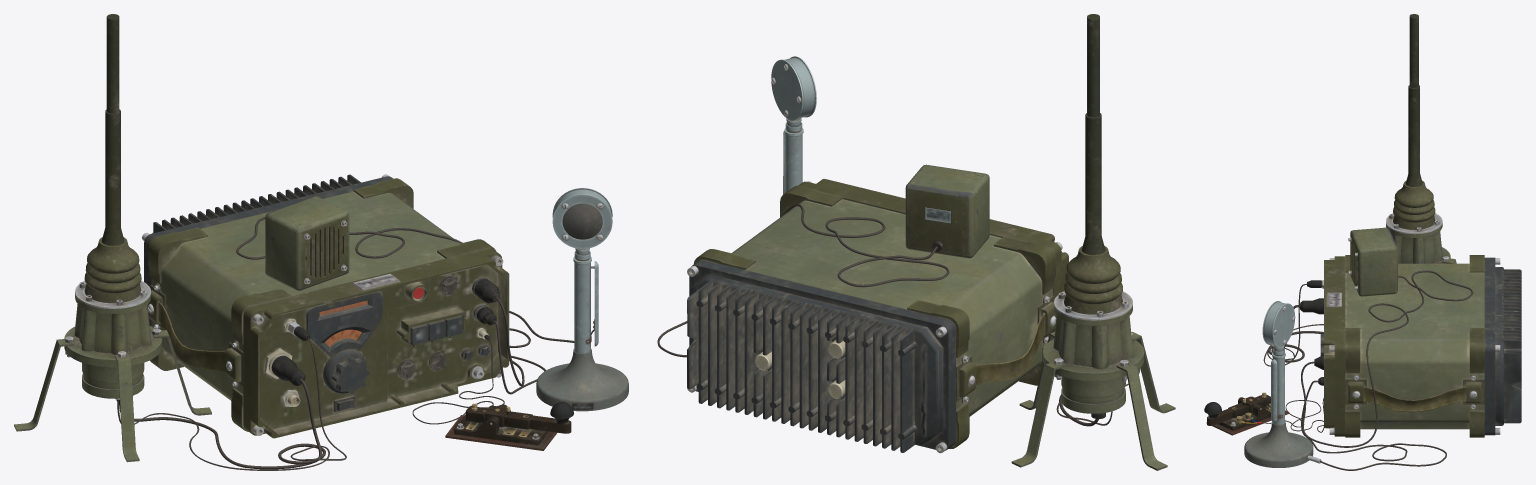
The model's file is vintage_radio_transceiver.6f33e1a7d0.glb.
3 views of the same model, side by side, from view 1: azimuth 30°, elevation 25°; view 2: azimuth 150°, elevation 25°; view 3: azimuth 270°, elevation 25° (orthographic). The views are drawn at different scales.
Visible parts, largest first — view 1: vintage_radio_transceiver, vintage_radio_transceiver_antenna, vintage_radio_transceiver_microphone, vintage_radio_transceiver_speaker, vintage_radio_transceiver_cables, vintage_radio_transceiver_morse_key_base, vintage_radio_transceiver_morse_key_arm, vintage_radio_transceiver_dial, vintage_radio_transceiver_antenna_plug_a; view 2: vintage_radio_transceiver, vintage_radio_transceiver_antenna, vintage_radio_transceiver_speaker, vintage_radio_transceiver_microphone, vintage_radio_transceiver_cables; view 3: vintage_radio_transceiver, vintage_radio_transceiver_antenna, vintage_radio_transceiver_microphone, vintage_radio_transceiver_cables, vintage_radio_transceiver_speaker, vintage_radio_transceiver_morse_key_arm, vintage_radio_transceiver_morse_key_base.
Part boxes in pixels (left/top/right/bottom): vintage_radio_transceiver: left=142, top=174, right=509, bottom=438; vintage_radio_transceiver_antenna: left=14, top=14, right=211, bottom=462; vintage_radio_transceiver_microphone: left=536, top=188, right=628, bottom=411; vintage_radio_transceiver_speaker: left=265, top=196, right=349, bottom=290; vintage_radio_transceiver_cables: left=117, top=217, right=574, bottom=470; vintage_radio_transceiver_morse_key_base: left=445, top=404, right=557, bottom=450; vintage_radio_transceiver_morse_key_arm: left=466, top=402, right=573, bottom=433; vintage_radio_transceiver_dial: left=323, top=329, right=369, bottom=393; vintage_radio_transceiver_antenna_plug_a: left=271, top=355, right=305, bottom=385; vintage_radio_transceiver: left=687, top=179, right=1068, bottom=453; vintage_radio_transceiver_antenna: left=1011, top=14, right=1175, bottom=470; vintage_radio_transceiver_speaker: left=905, top=164, right=989, bottom=258; vintage_radio_transceiver_microphone: left=771, top=56, right=816, bottom=194; vintage_radio_transceiver_cables: left=657, top=204, right=1139, bottom=426; vintage_radio_transceiver: left=1324, top=255, right=1521, bottom=437; vintage_radio_transceiver_antenna: left=1386, top=14, right=1456, bottom=263; vintage_radio_transceiver_microphone: left=1244, top=301, right=1321, bottom=467; vintage_radio_transceiver_cables: left=1261, top=270, right=1473, bottom=470; vintage_radio_transceiver_speaker: left=1348, top=227, right=1397, bottom=296; vintage_radio_transceiver_morse_key_arm: left=1204, top=392, right=1270, bottom=425; vintage_radio_transceiver_morse_key_base: left=1206, top=397, right=1289, bottom=435.
Size of the model in its own units: 0.574 by 0.4344 by 0.4131.
2 materials, 2 textured.
